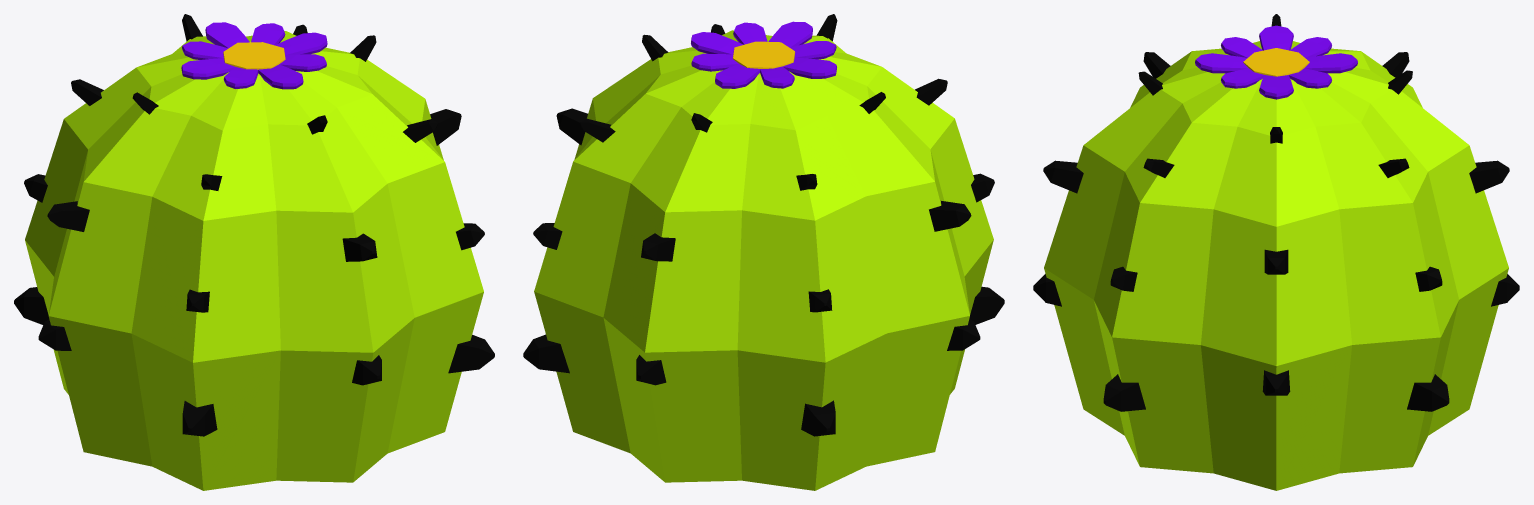
Rendered from Cardon06_00Brazos_Flor_Morada.fbx.
3 views of the same model, side by side, from view 1: azimuth 30°, elevation 25°; view 2: azimuth 150°, elevation 25°; view 3: azimuth 270°, elevation 25° (orthographic). The views are drawn at different scales.
Parts seen in each view (by area): view 1: Cactus, Espinas, Flor_Morada; view 2: Cactus, Espinas, Flor_Morada; view 3: Cactus, Espinas, Flor_Morada.
Part boxes in pixels (x1,y1,x2,y2): Cactus: (25,31,483,490); Espinas: (14,14,494,436); Flor_Morada: (181,22,327,89); Cactus: (534,30,993,490); Espinas: (523,14,1004,436); Flor_Morada: (691,21,836,88); Cactus: (1044,41,1508,490); Espinas: (1033,14,1519,411); Flor_Morada: (1195,25,1357,99).
Size of the model in its own units: 47.77 by 37.93 by 47.77.
